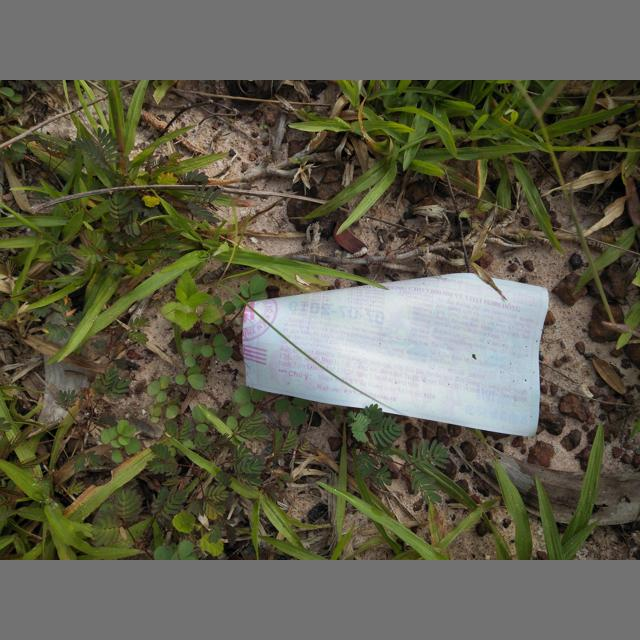litter: (244, 271, 548, 438)
